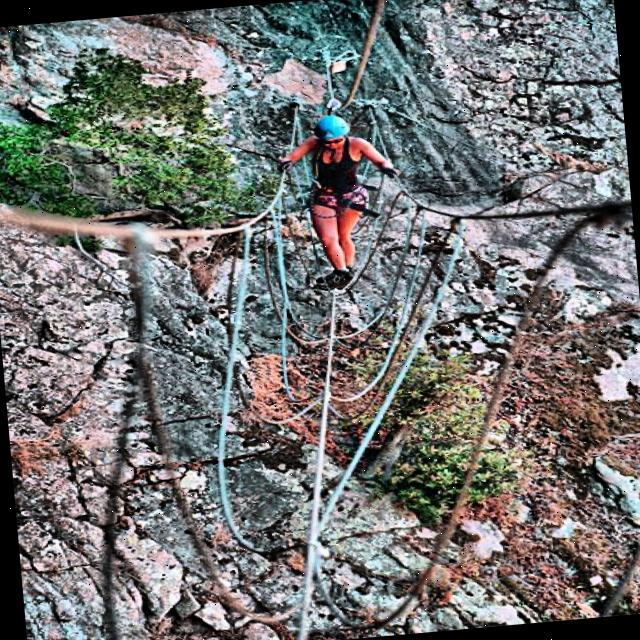helmet: (311, 113, 351, 153)
